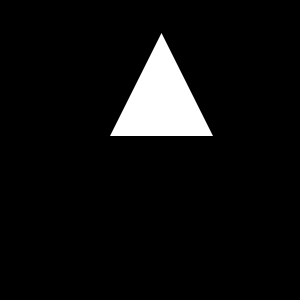triangle: (110, 33, 213, 136)
